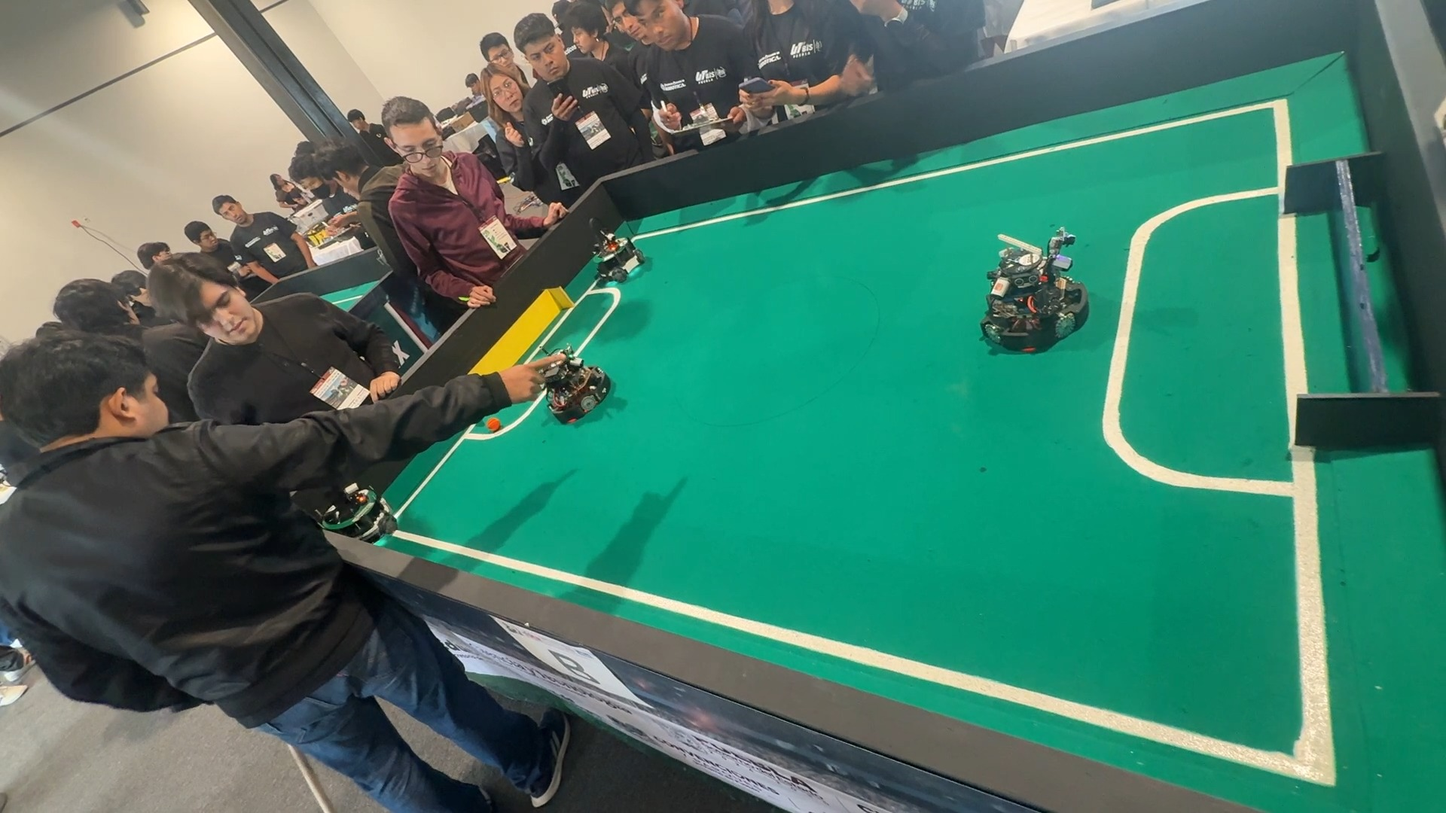Robot: (968, 219, 1092, 367), (520, 344, 614, 434), (591, 221, 652, 290)
pelota: (484, 413, 505, 438)
